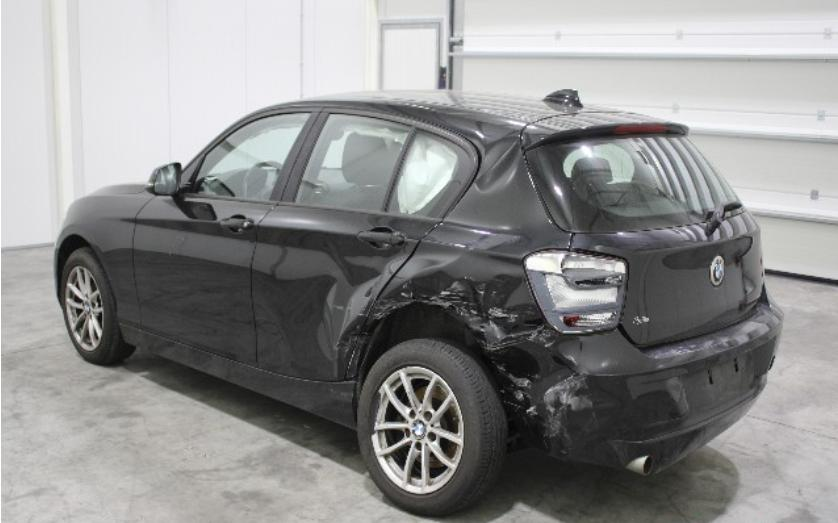Back-bumper: (485, 296, 784, 473)
Back-door: (250, 103, 482, 380)
Back-wheel: (356, 337, 509, 517)
Back-window: (294, 112, 409, 210), (386, 129, 470, 216)
Back-windshield: (524, 133, 745, 234)
Fender: (54, 188, 154, 329)
Front-door: (133, 102, 326, 368)
Front-wheel: (61, 247, 121, 366)
Front-window: (192, 113, 312, 201)
Hood: (94, 184, 148, 193)
Mirror: (146, 163, 181, 196)
Quarter-panel: (343, 219, 573, 380)
Rocker-panel: (120, 322, 360, 431)
Roof: (301, 90, 627, 124)
Tail-light: (524, 250, 627, 336)
Trunk: (521, 112, 765, 349)
